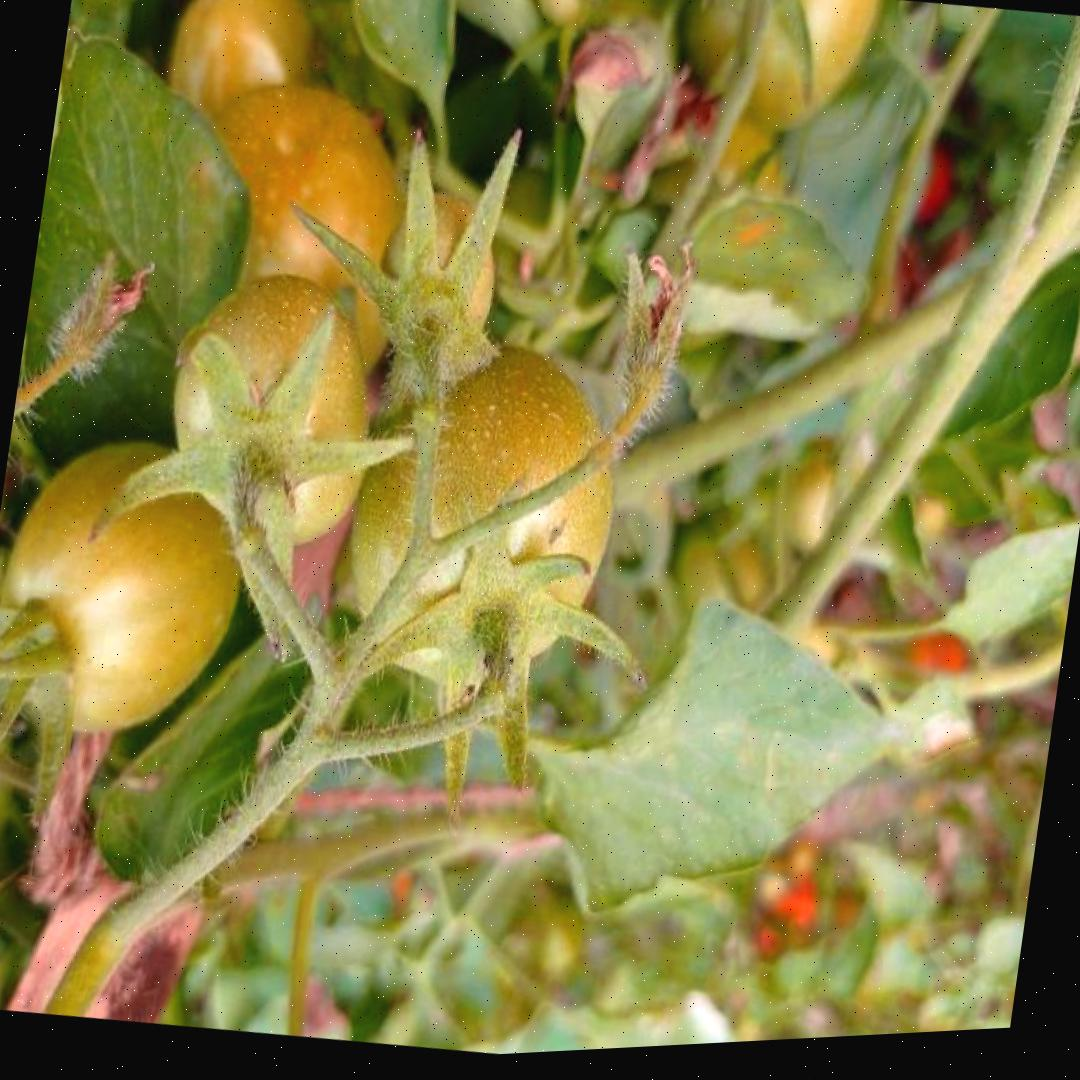mentah: (328, 315, 638, 718), (0, 414, 259, 756), (152, 249, 394, 564), (364, 179, 512, 365)
